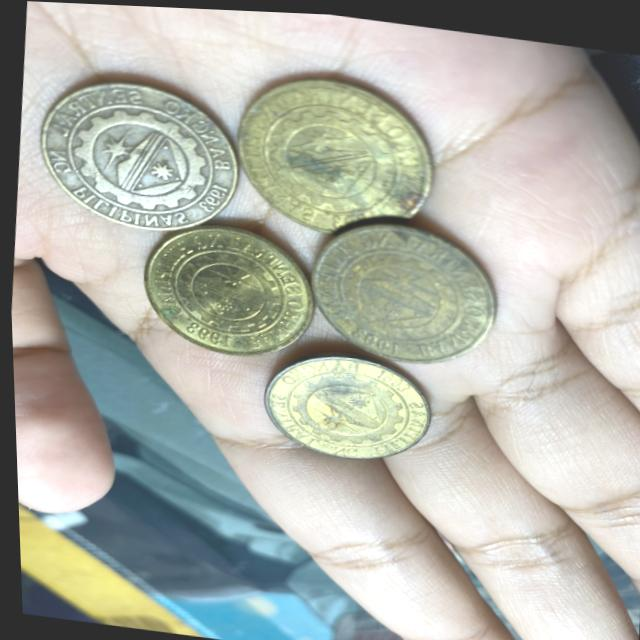25Cent_Old_Back: (136, 217, 319, 365)
